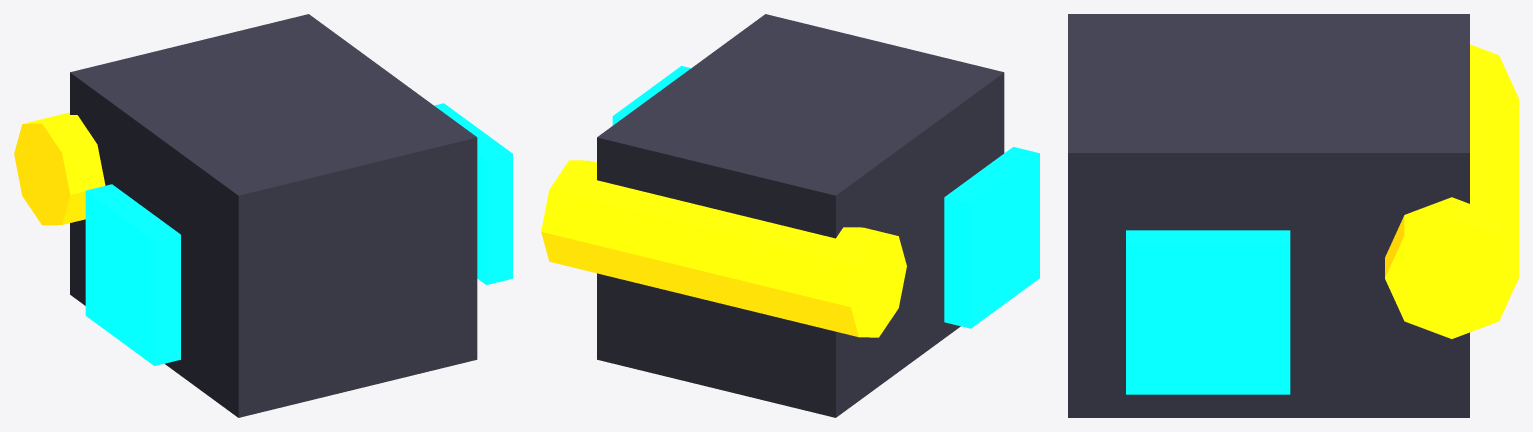
File: anomaly_cyber.glb
3 views of the same model, side by side, from view 1: azimuth 30°, elevation 25°; view 2: azimuth 150°, elevation 25°; view 3: azimuth 270°, elevation 25° (orthographic). The views are drawn at different scales.
Parts seen in each view (by area): view 1: Cube, Cube.001, Cylinder, Cube.002; view 2: Cube, Cylinder, Cube.001, Cube.002; view 3: Cube, Cube.002, Cylinder.
Part boxes in pixels (x1,y1,x2,y2): Cube: [70, 14, 477, 417]; Cube.001: [85, 184, 180, 365]; Cylinder: [14, 112, 105, 225]; Cube.002: [434, 103, 512, 284]; Cube: [597, 14, 1004, 417]; Cylinder: [541, 160, 906, 337]; Cube.001: [944, 147, 1039, 328]; Cube.002: [612, 66, 690, 125]; Cube: [1068, 14, 1469, 417]; Cube.002: [1126, 230, 1290, 394]; Cylinder: [1385, 44, 1518, 338].
Size of the model in its own units: 1.62 by 0.96 by 1.48.
